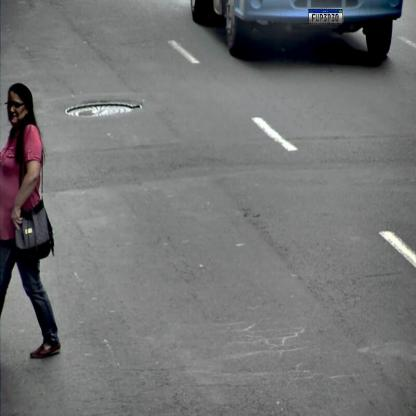PlacaM: (308, 9, 343, 24)
